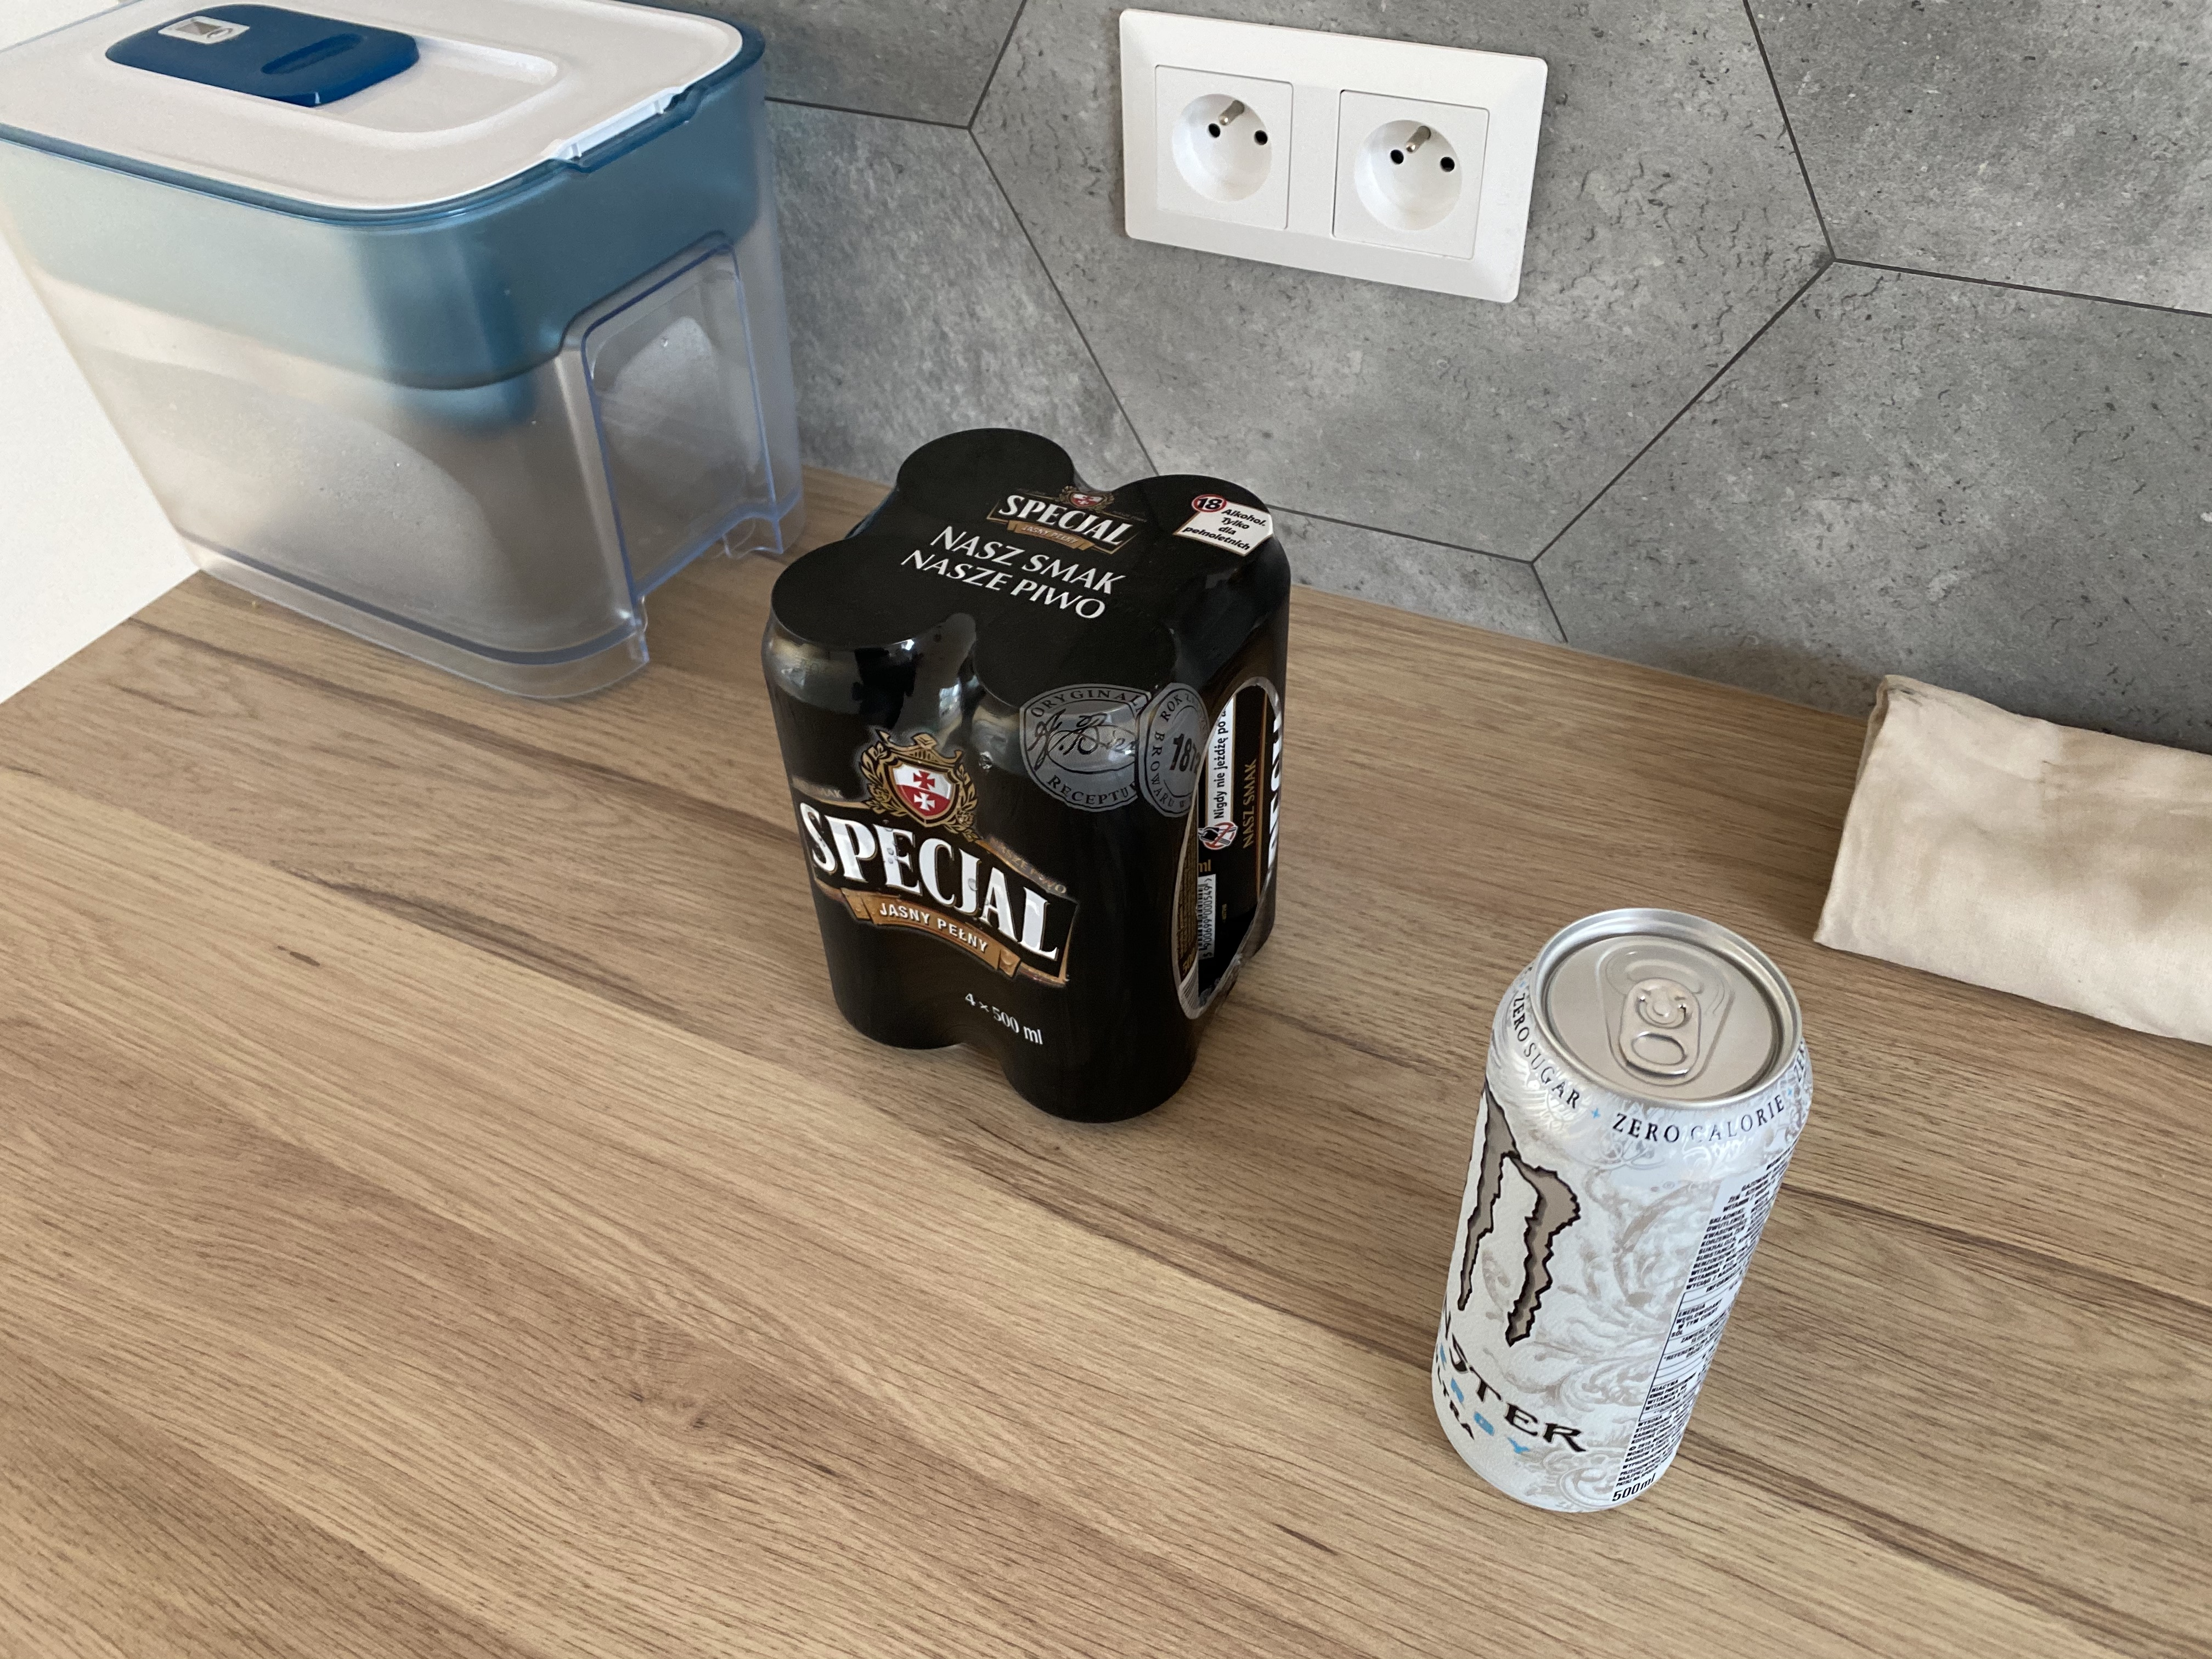specjal: (763, 427, 1294, 1121)
